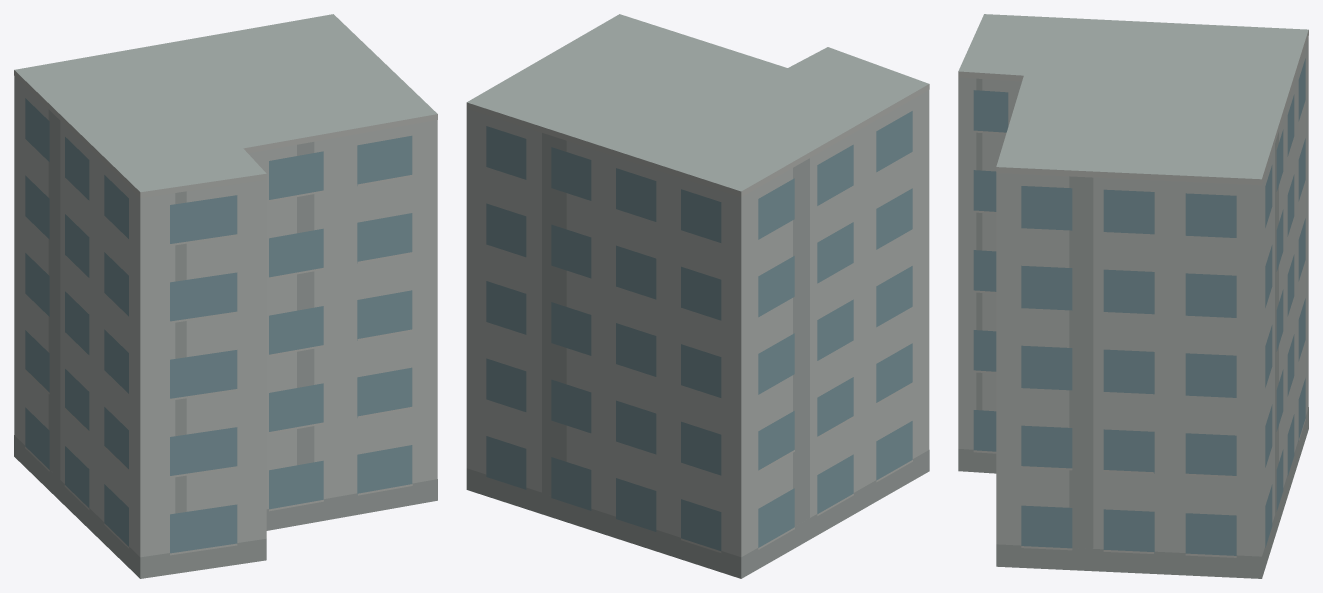
The model's file is survey-upis-32870781.glb.
3 views of the same model, side by side, from view 1: azimuth 30°, elevation 25°; view 2: azimuth 150°, elevation 25°; view 3: azimuth 270°, elevation 25° (orthographic). The views are drawn at different scales.
Parts seen in each view (by area): view 1: survey-upis-32870781.tmp; view 2: survey-upis-32870781.tmp; view 3: survey-upis-32870781.tmp.
Part boxes in pixels (<box>): survey-upis-32870781.tmp: <box>14,14,437,578</box>; survey-upis-32870781.tmp: <box>466,14,929,578</box>; survey-upis-32870781.tmp: <box>958,14,1308,578</box>.
Size of the model in its own units: 14.24 by 16.05 by 12.77.
